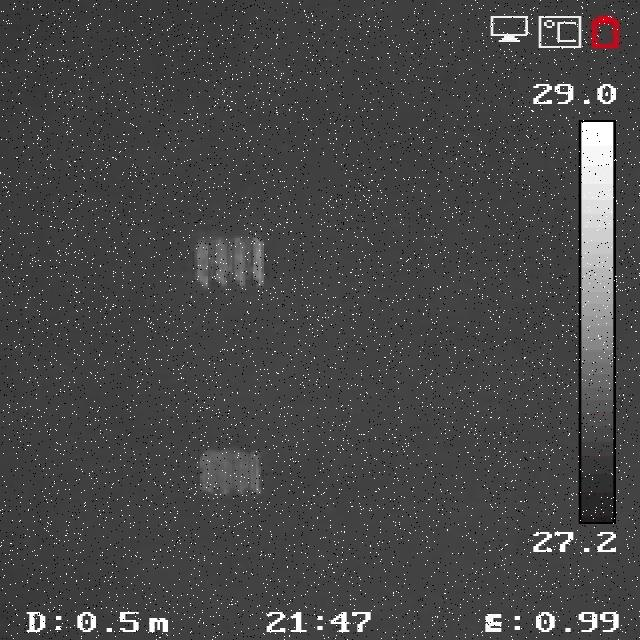threshold 4-bar target: (189, 230, 268, 287), (196, 447, 260, 496)
